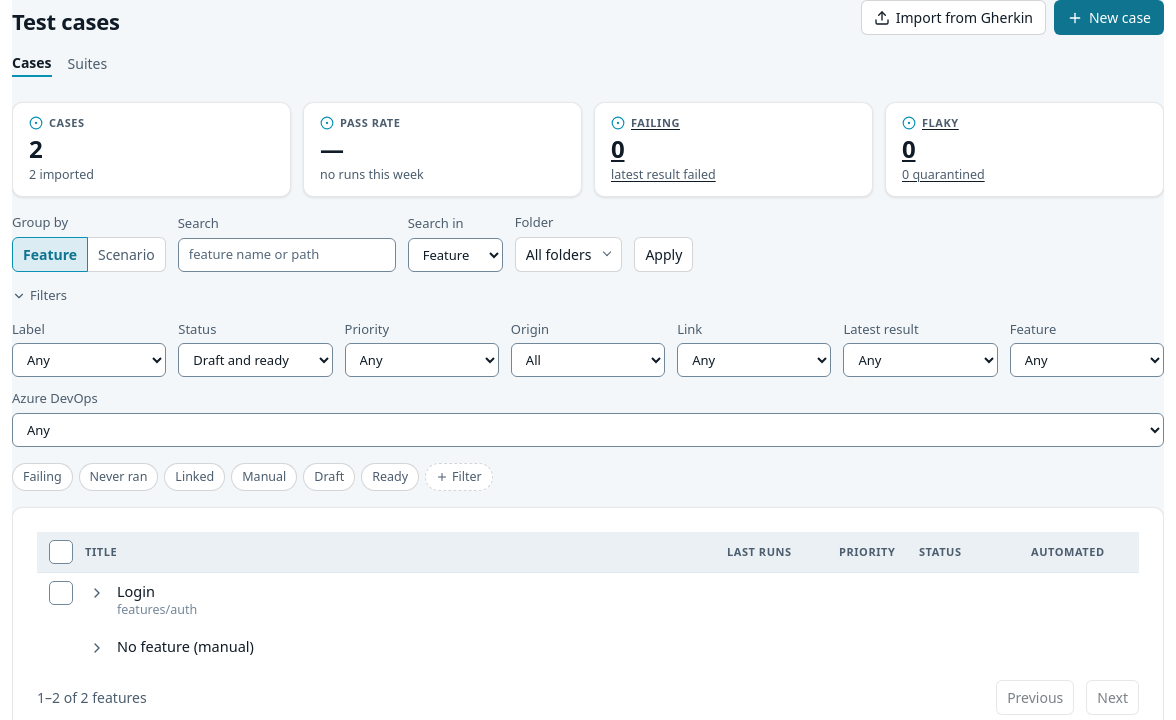
Scenario: the manual group expands to the manual cases
Expected: the text "No feature (manual)" is shown, x1=117 y1=636 x2=254 y2=656
Click the button named "Show scenarios of No feature (manual)" at (97, 648), box x1=85 y1=636 x2=109 y2=660
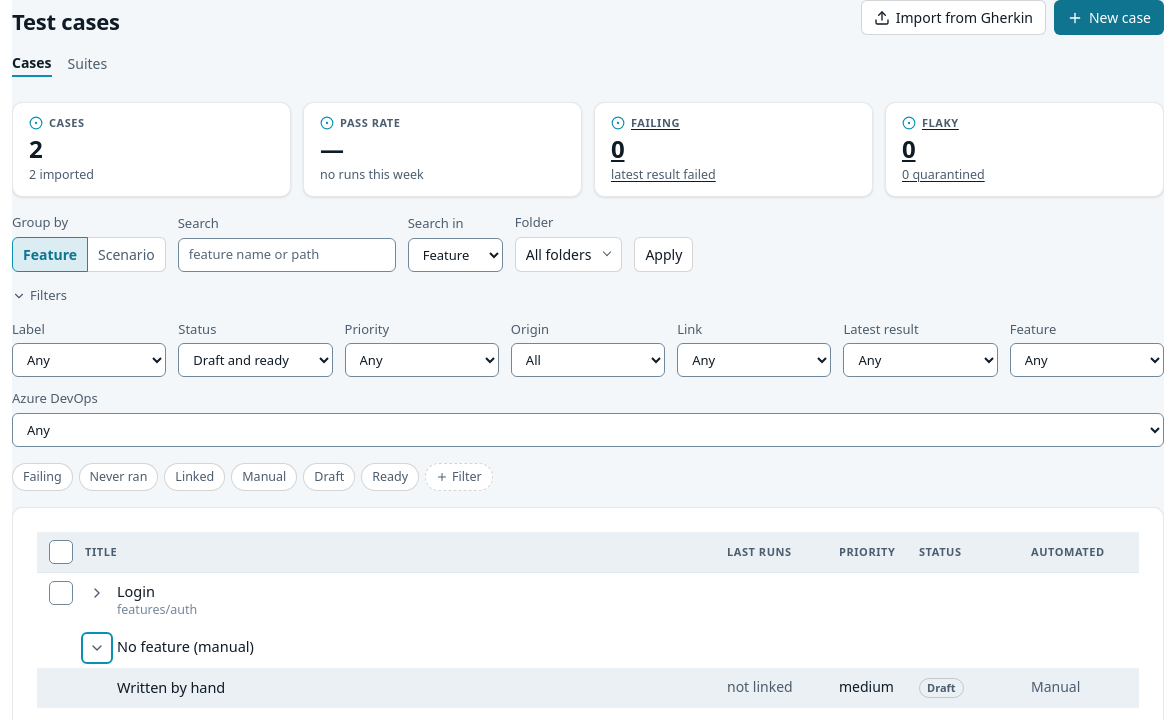
Now the link "Written by hand" is shown, box x1=117 y1=676 x2=225 y2=697
